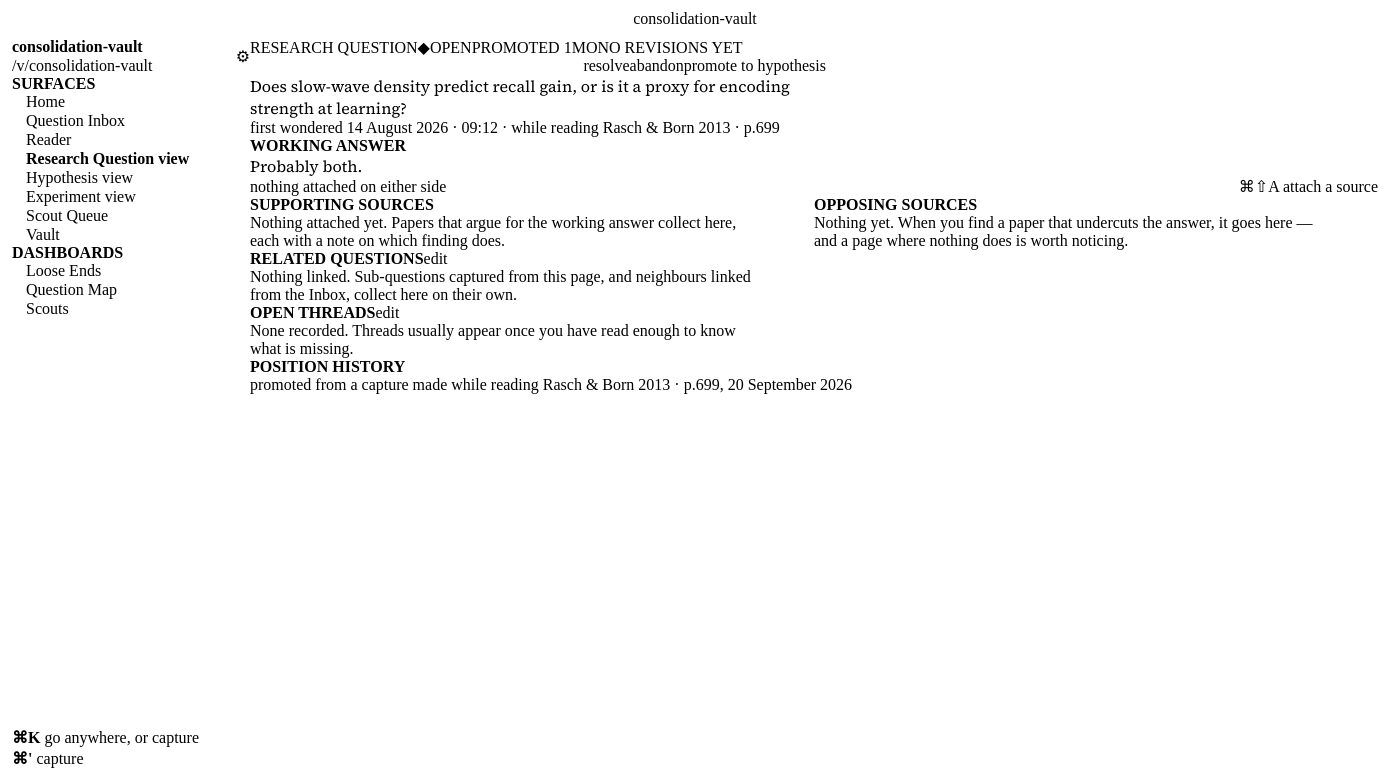
editing the working answer › esc reverts unsaved typing and saves nothing; blur over unchanged text saves nothing
Replace the text in the text box labelled "Working answer" with "Probably not.". click: (521, 166)
box: [250,155,792,177]
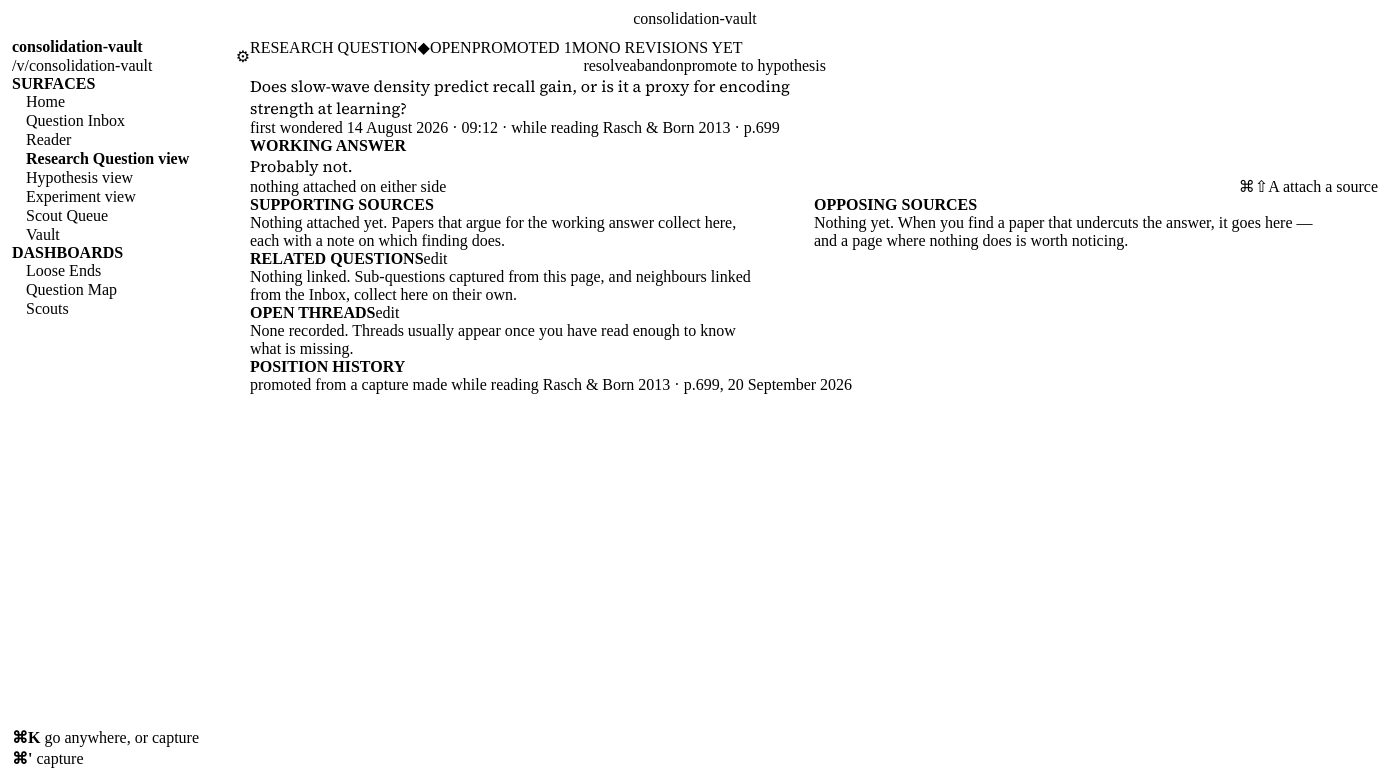
Press Escape in the text box labelled "Working answer", box [250,155,792,177]
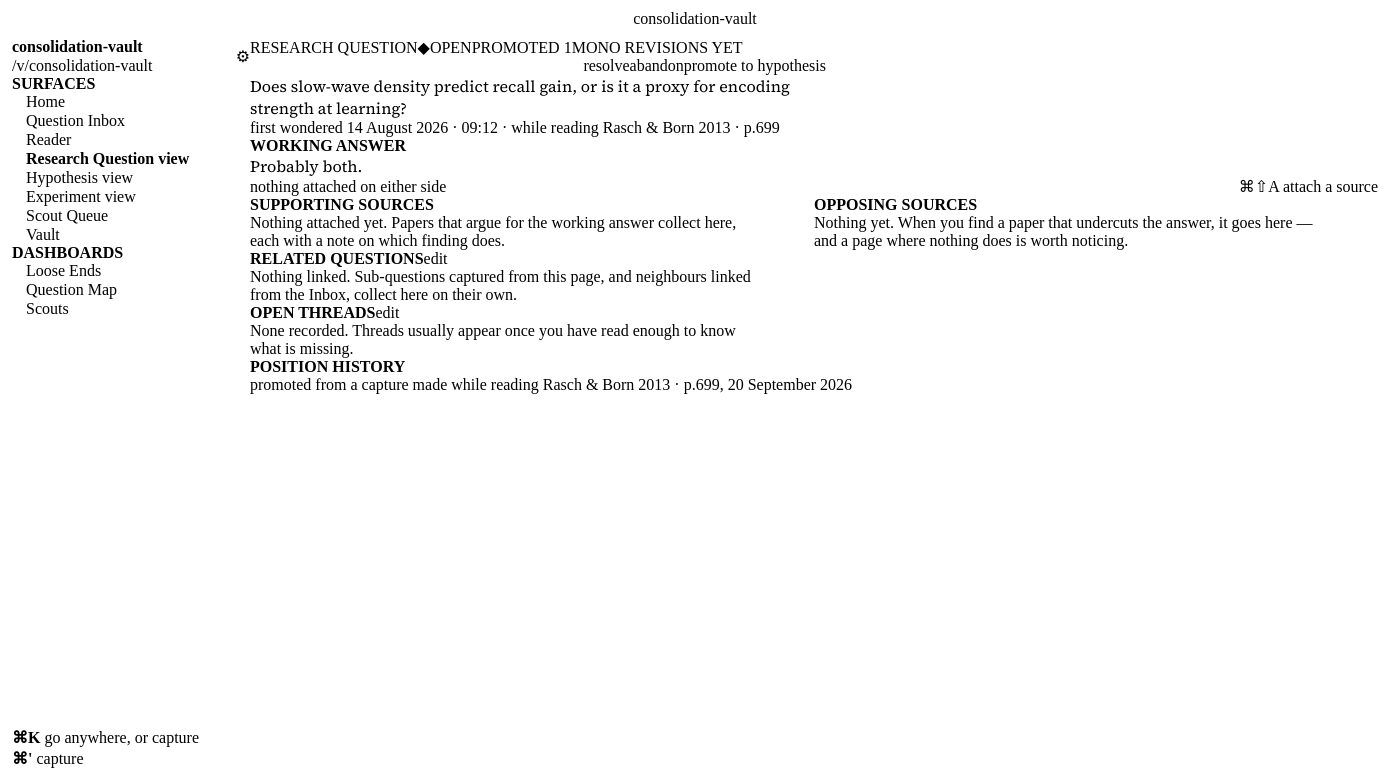
Result: the text box labelled "Working answer" holds "Probably both." at [250,155,792,177]
